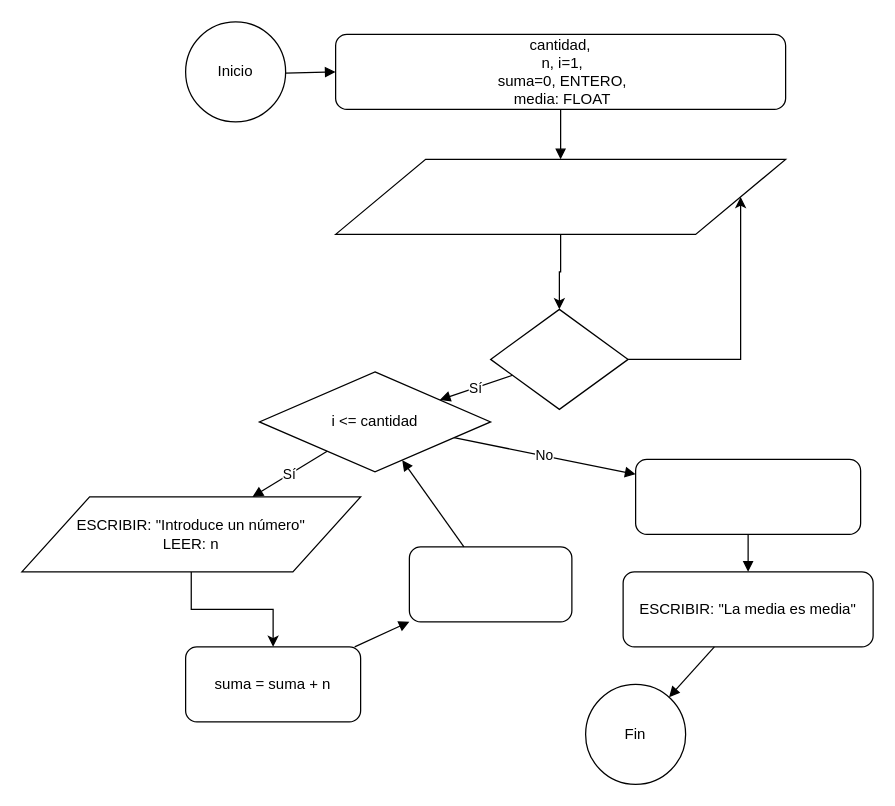
The diagram is 895 pixels wide and 806 high, and some of its shapes have lost their labels. Each missing label, with the centre of its shape:
cantidad > 0: pixel 558 358
ESCRIBIR: "¿Cuántos números desea introducir?" LEER: cantidad: pixel 560 196
i = i + 1: pixel 490 584
media = suma / cantidad: pixel 747 496
